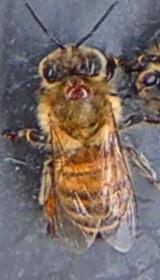varroa_mite: (58, 78, 94, 106)
